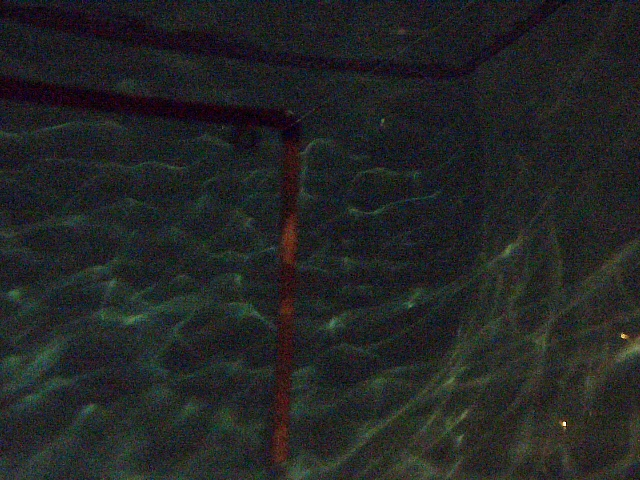Gate: (264, 134, 306, 475)
